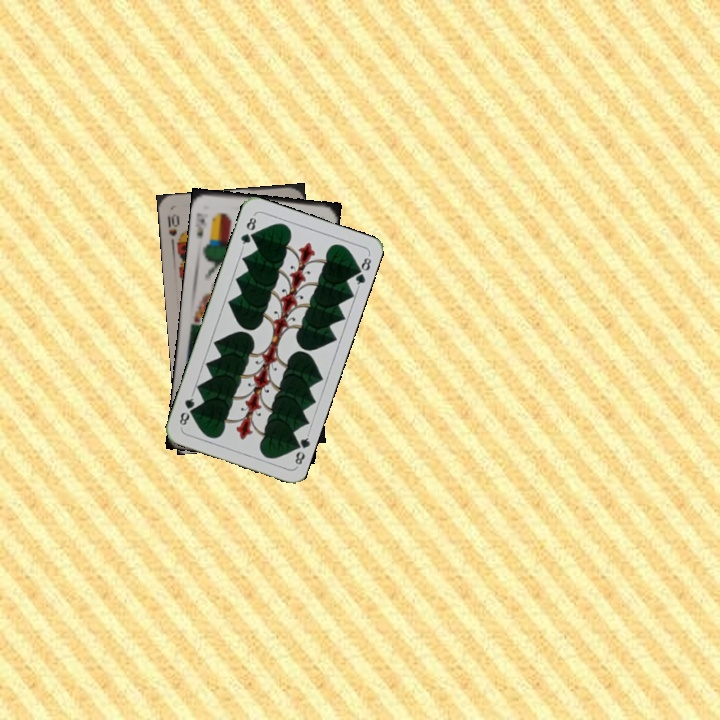EK: (193, 208, 207, 241)
G8: (289, 430, 313, 469), (236, 211, 259, 251)
S10: (164, 210, 183, 249)
